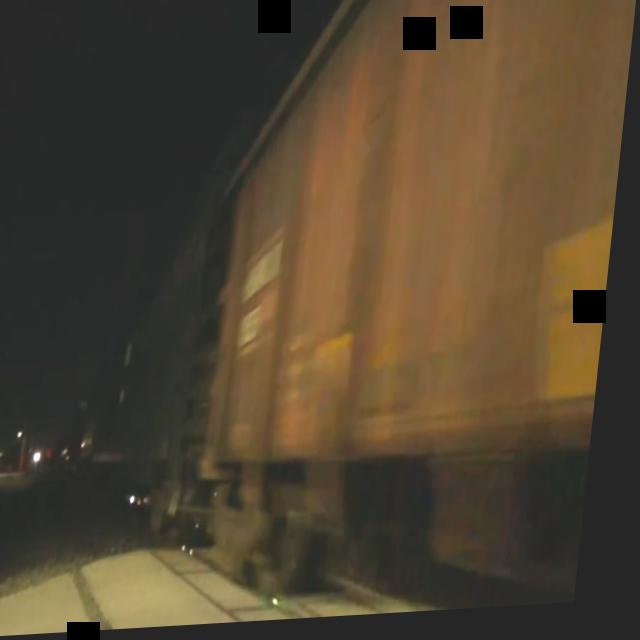gondola: (190, 0, 640, 629)
